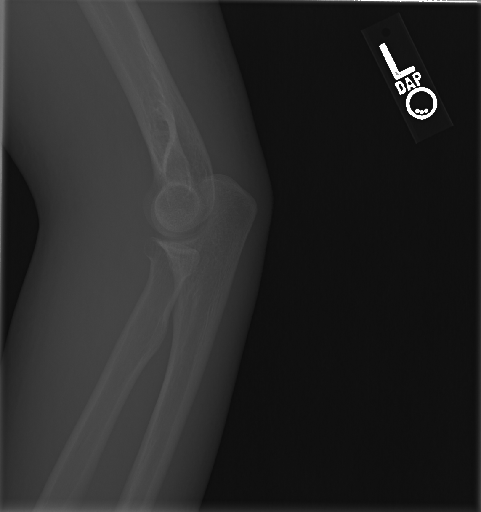fracture: (142, 175, 209, 280)
